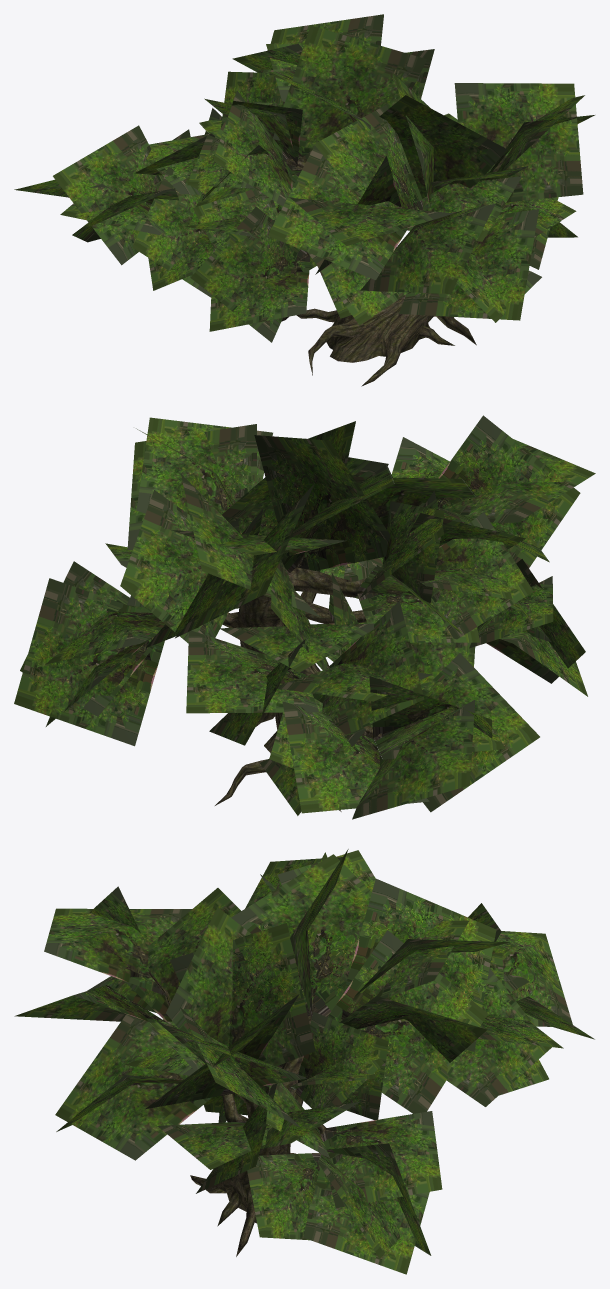
The model's file is cmc_shu05.FBX.
The picture shows the model from 3 angles, top to bottom: view 1: azimuth 30°, elevation 25°; view 2: azimuth 150°, elevation 25°; view 3: azimuth 270°, elevation 25°; orthographic projection. The views are drawn at different scales.
Visible parts, largest first — view 1: cmc_shuye_a, cmc_shugan_a; view 2: cmc_shuye_a, cmc_shugan_a; view 3: cmc_shuye_a, cmc_shugan_a.
Boxes of the visible parts, x1,y1,x2,y2 form: cmc_shuye_a: [14, 14, 594, 342]; cmc_shugan_a: [281, 159, 476, 386]; cmc_shuye_a: [14, 415, 595, 819]; cmc_shugan_a: [215, 567, 381, 811]; cmc_shuye_a: [14, 849, 594, 1274]; cmc_shugan_a: [148, 972, 327, 1256].
Bounding box in the file's own units: 2228 × 1475 × 2197.
